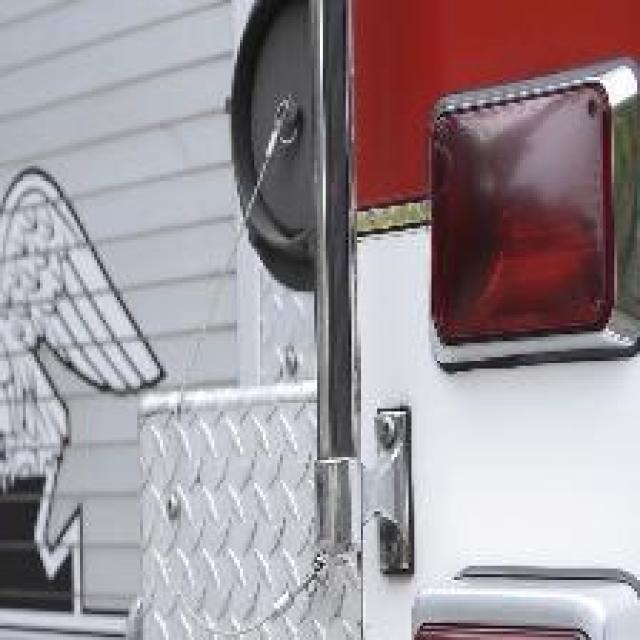other: (359, 42, 599, 280)
